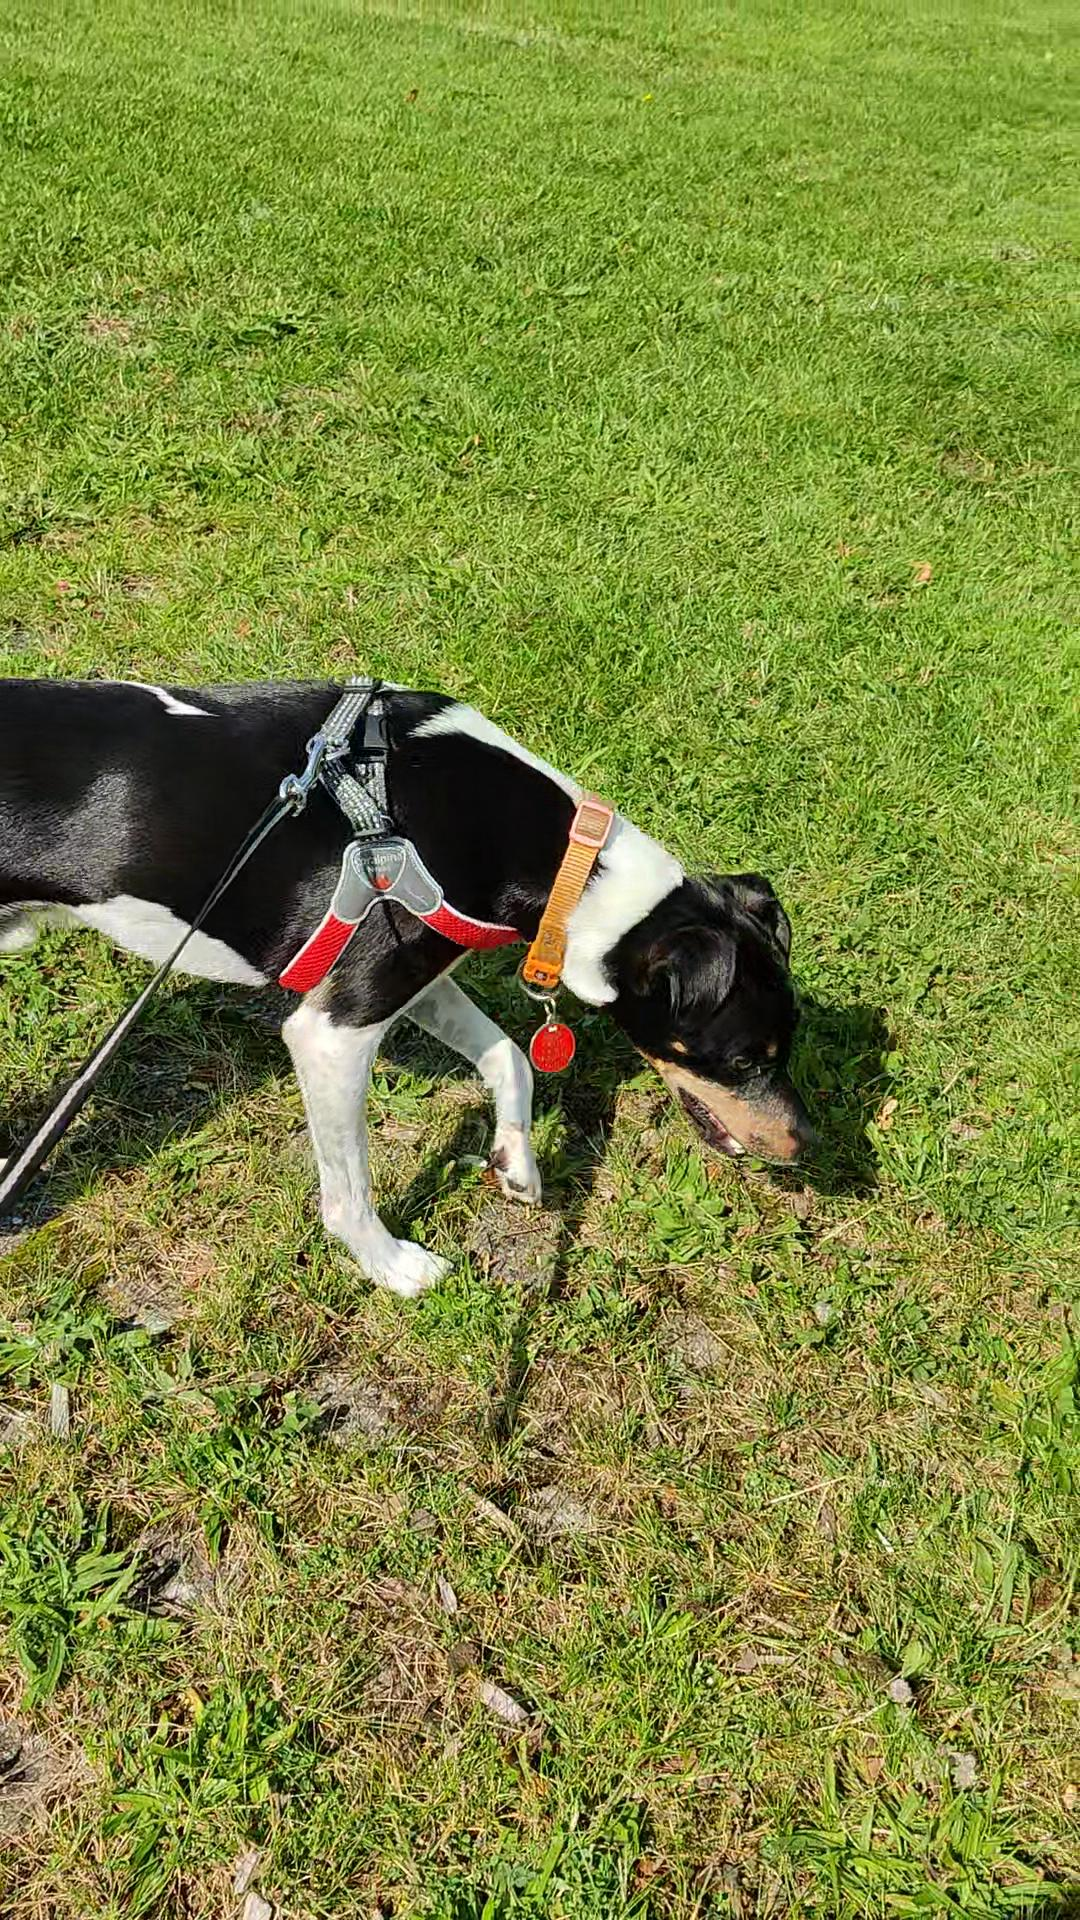Dog: (0, 655, 839, 1300)
